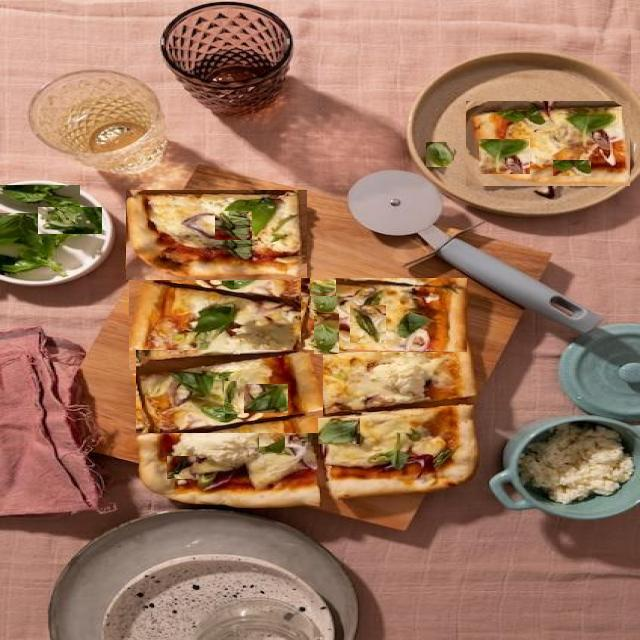basil: (0, 211, 66, 276), (0, 185, 80, 213), (479, 139, 530, 174), (38, 208, 102, 235), (192, 299, 232, 339), (351, 305, 386, 343), (244, 384, 288, 413), (381, 433, 414, 470), (318, 418, 360, 444), (216, 211, 253, 240), (314, 312, 339, 354), (395, 292, 431, 320), (434, 445, 462, 471), (426, 142, 454, 167), (168, 456, 198, 479), (553, 160, 591, 176), (220, 361, 256, 377), (259, 433, 285, 453), (310, 278, 336, 296), (224, 382, 238, 409)
pizza: (129, 280, 314, 370), (126, 190, 307, 280), (136, 350, 323, 433), (319, 406, 482, 501), (140, 420, 319, 505), (466, 101, 630, 186), (301, 278, 467, 352), (304, 345, 479, 414)
